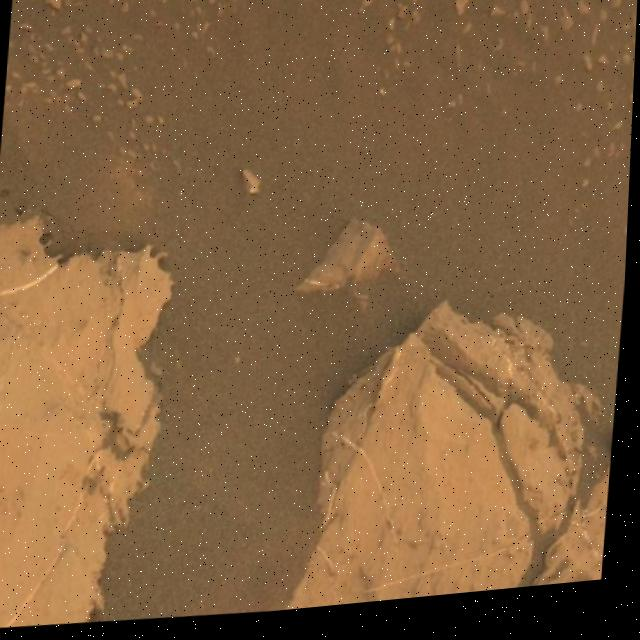mars-rocks: (297, 225, 401, 298)
